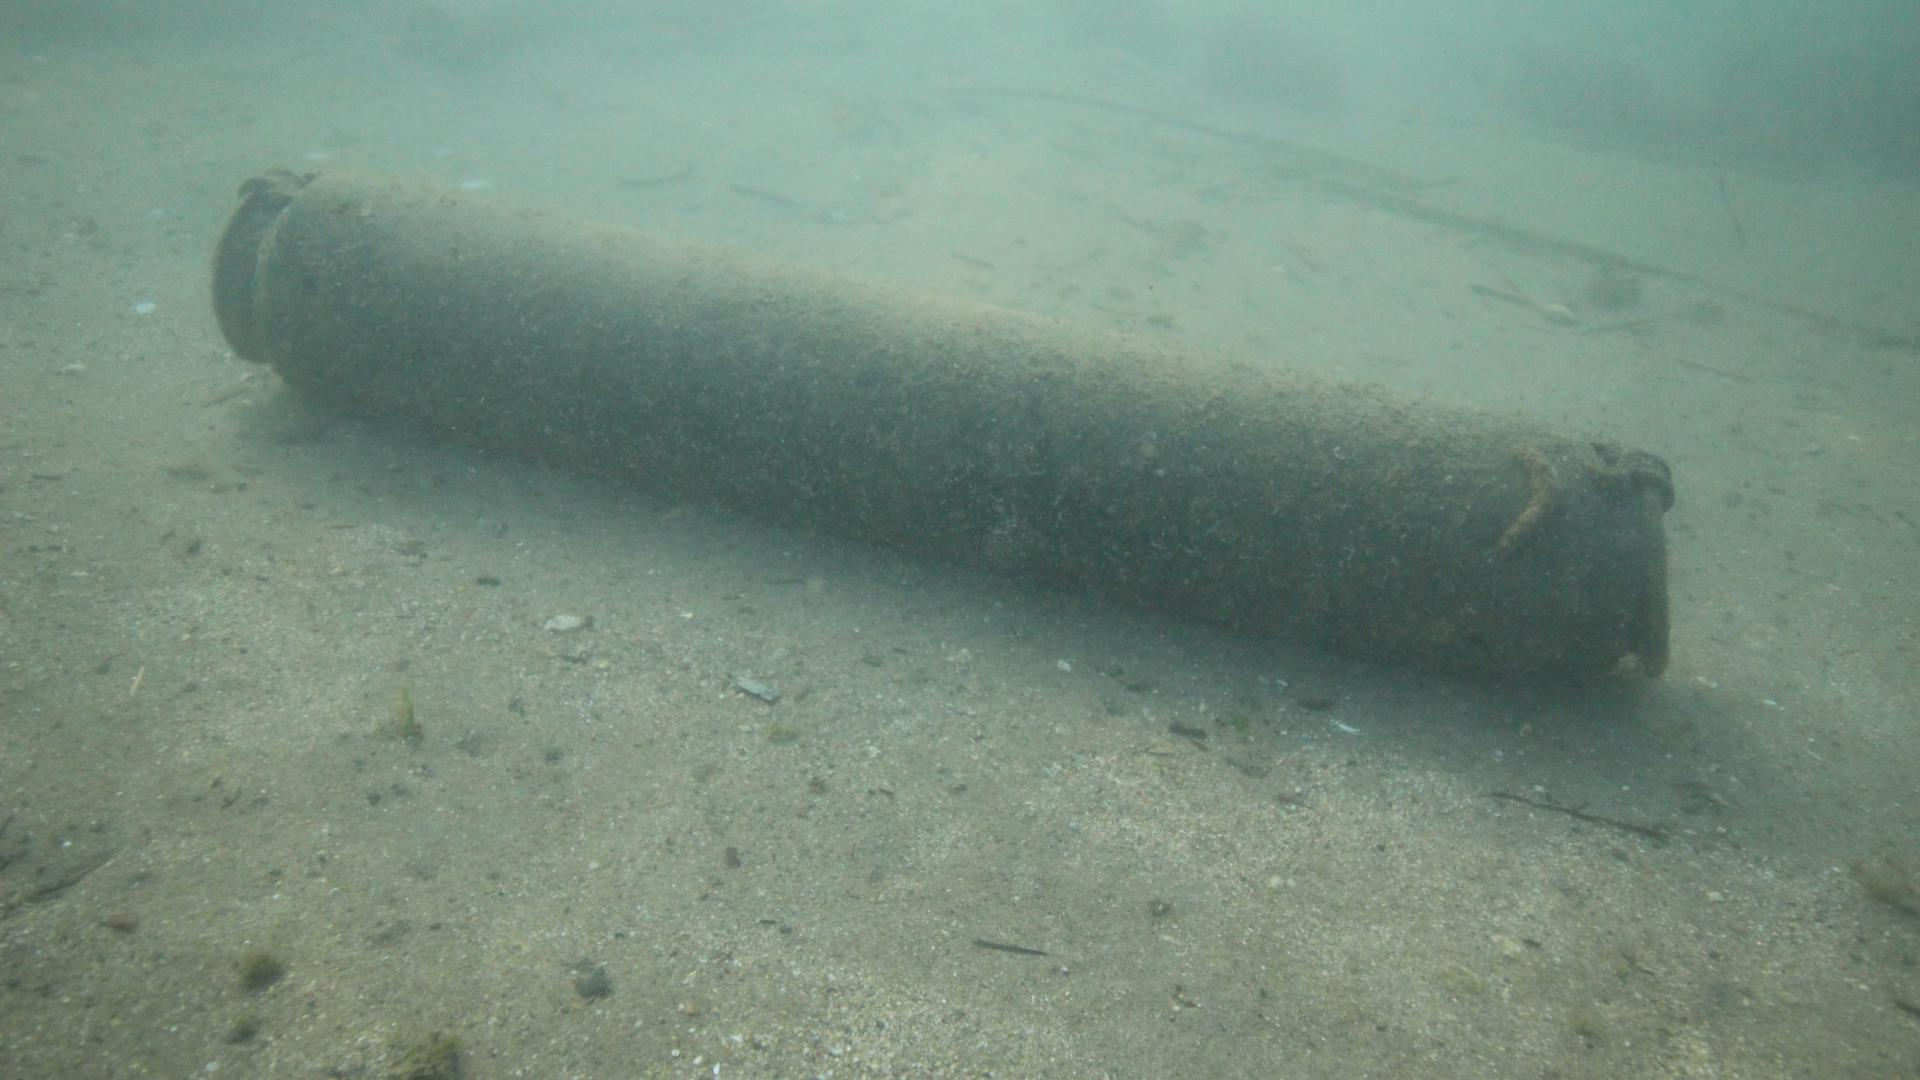eel fish trap: (207, 160, 1677, 678)
